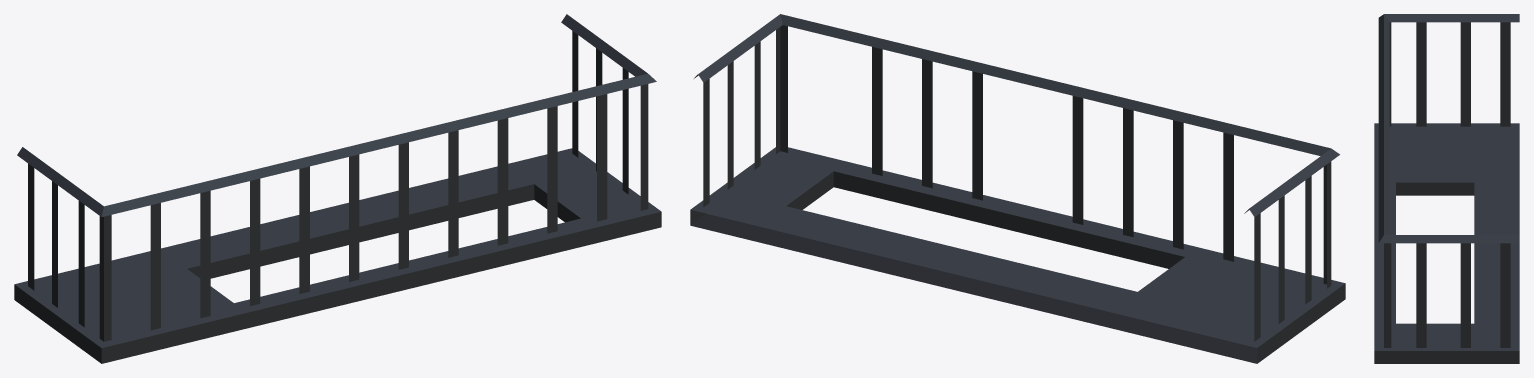
Rendered from TB_CITY_BD_StairBody_B.FBX.
3 views of the same model, side by side, from view 1: azimuth 30°, elevation 25°; view 2: azimuth 150°, elevation 25°; view 3: azimuth 270°, elevation 25° (orthographic). The views are drawn at different scales.
Visible parts, largest first — view 1: TB_CITY_BD_StairBody_B; view 2: TB_CITY_BD_StairBody_B; view 3: TB_CITY_BD_StairBody_B.
Part boxes in pixels (x1=…): TB_CITY_BD_StairBody_B: x1=14, y1=14, x2=661, y2=363; TB_CITY_BD_StairBody_B: x1=690, y1=14, x2=1345, y2=363; TB_CITY_BD_StairBody_B: x1=1374, y1=14, x2=1519, y2=363.
Bounding box in the file's own units: 5.95 × 1.54 × 1.61.
